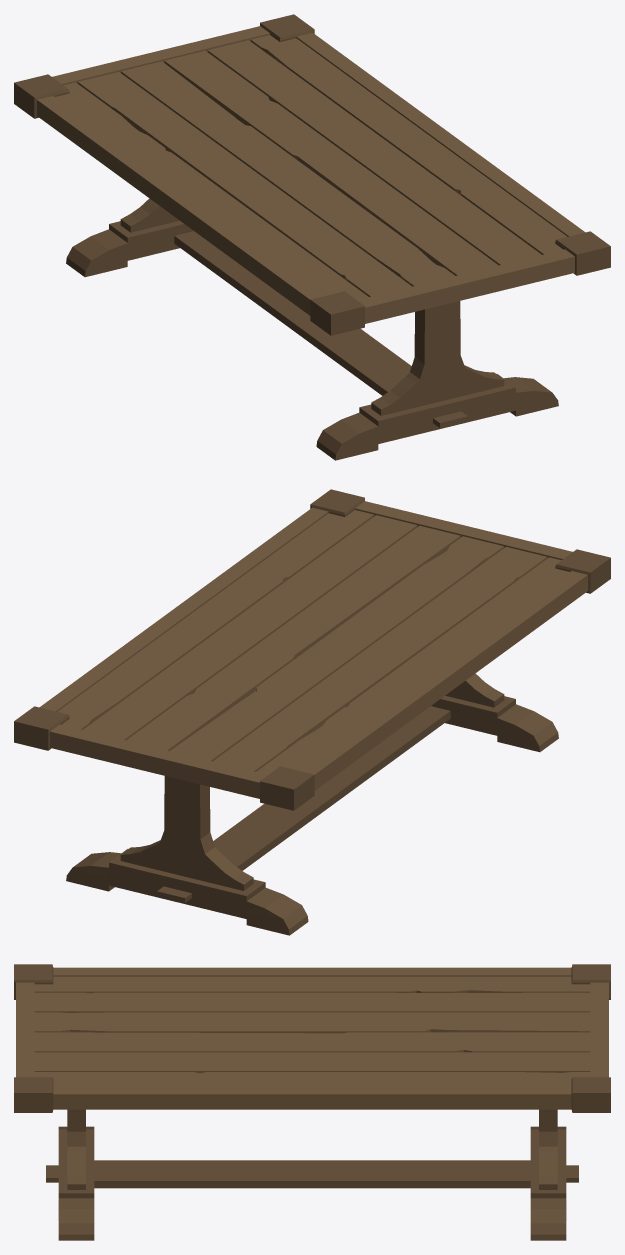
File: Table.glb
3 views of the same model, one above another, from view 1: azimuth 30°, elevation 25°; view 2: azimuth 150°, elevation 25°; view 3: azimuth 270°, elevation 25° (orthographic). The views are drawn at different scales.
Parts seen in each view (by area): view 1: Table; view 2: Table; view 3: Table.
Boxes of the visible parts, bbox=[...] form: Table: bbox=[14, 14, 610, 460]; Table: bbox=[14, 489, 610, 935]; Table: bbox=[14, 964, 610, 1240].
Size of the model in its own units: 1.42 by 0.8244 by 2.78.
